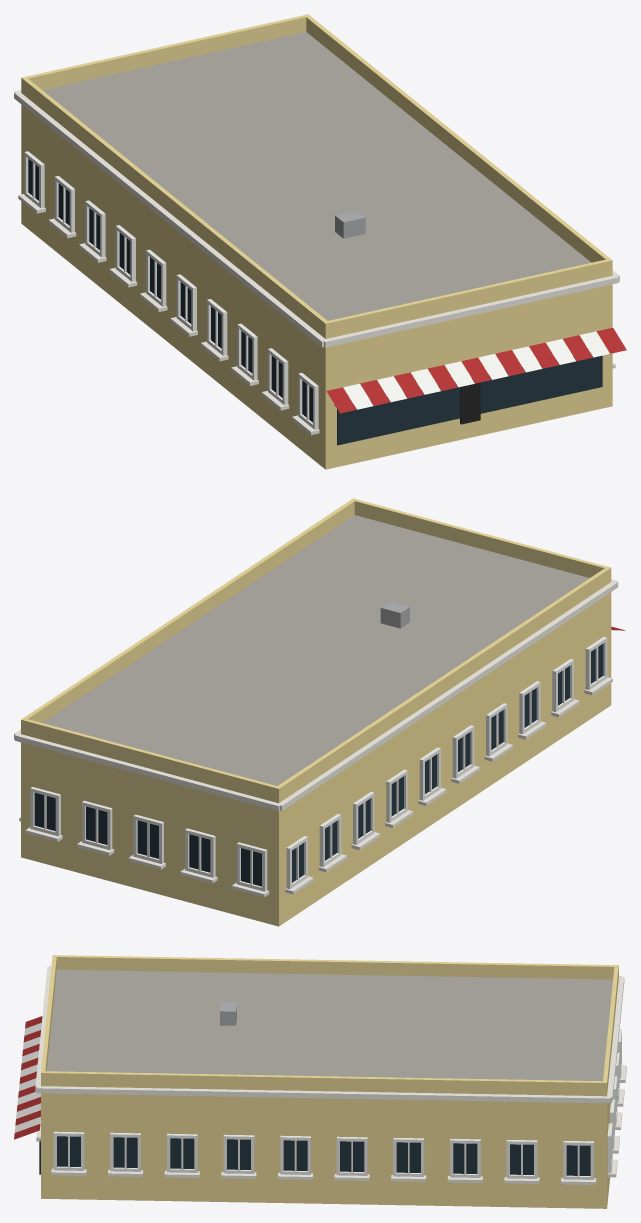
The picture shows the model from 3 angles, top to bottom: view 1: azimuth 30°, elevation 25°; view 2: azimuth 150°, elevation 25°; view 3: azimuth 270°, elevation 25°; orthographic projection. The views are drawn at different scales.
Visible parts, largest first — view 1: b690; view 2: b690; view 3: b690.
Boxes of the visible parts, x1,y1,x2,y2 form: b690: (14,14,626,469); b690: (14,498,625,926); b690: (14,955,626,1208).
Bounding box in the file's own units: 5932 × 2610 × 11393.
